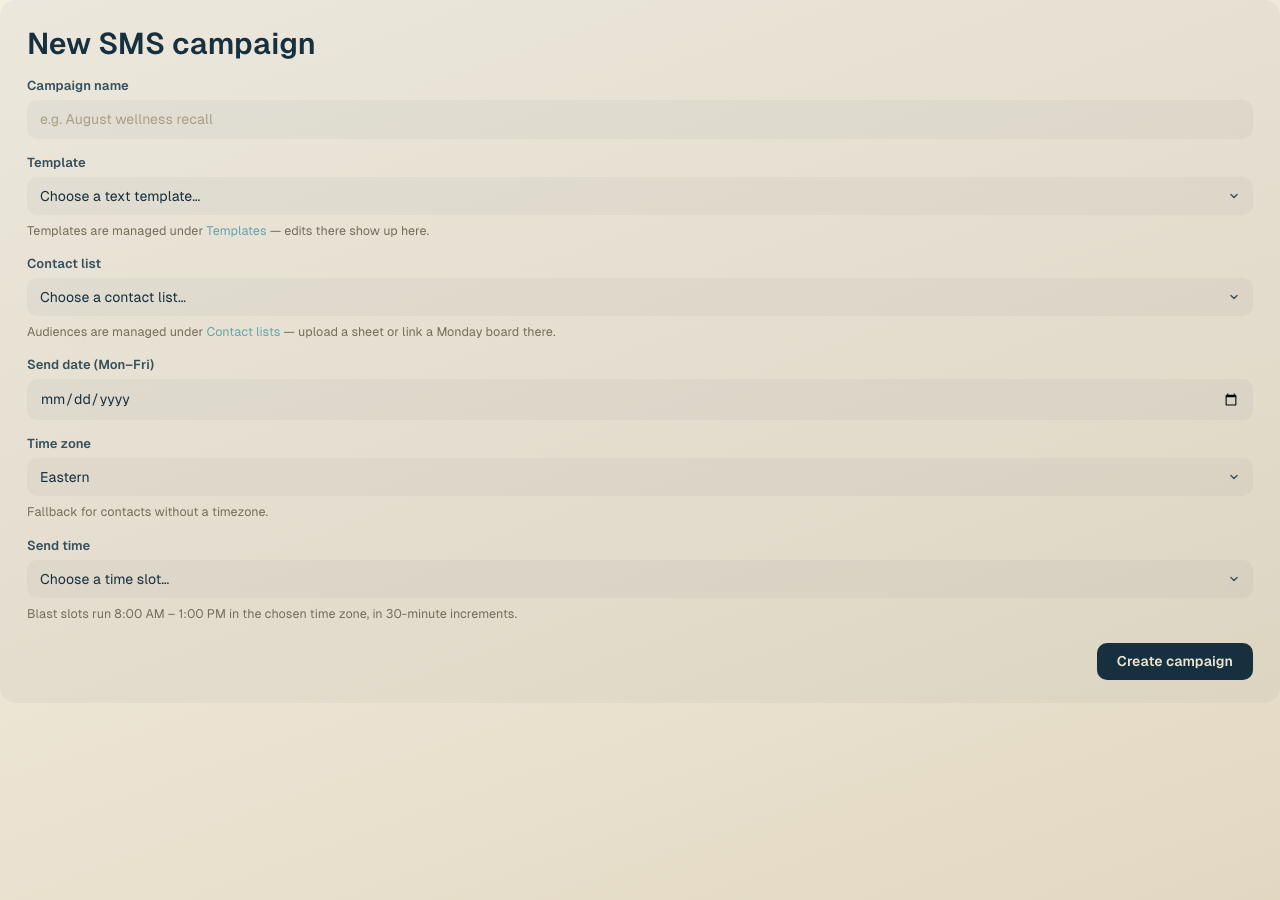
Test: NewCampaignForm › selecting a template previews its body
Select "Checkup reminder" in the dropdown labelled "Template". click: (640, 196)
box: [27,176,1253,214]
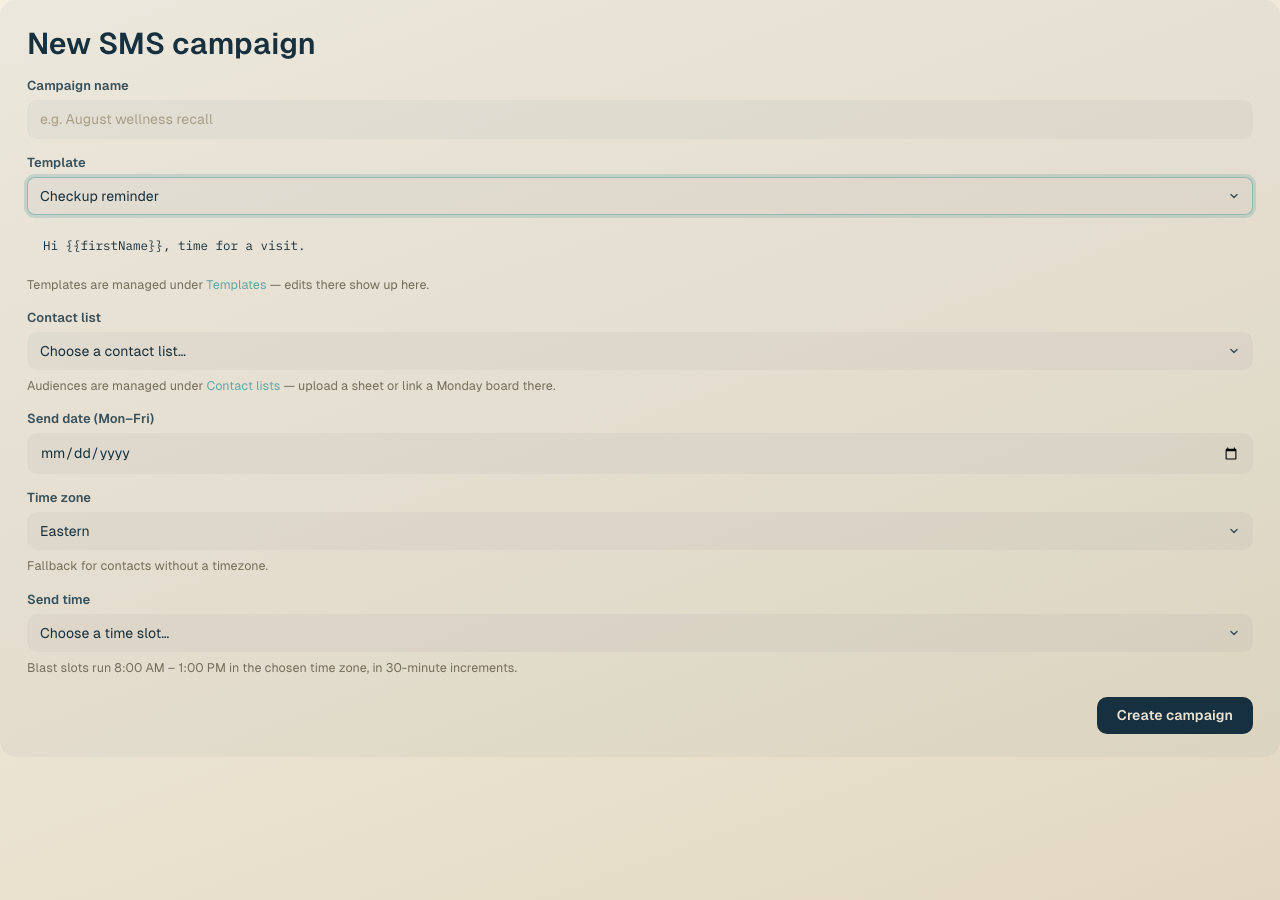
Now the text "Hi {{firstName}}, time for a visit." is shown, box [43,236,306,252]
